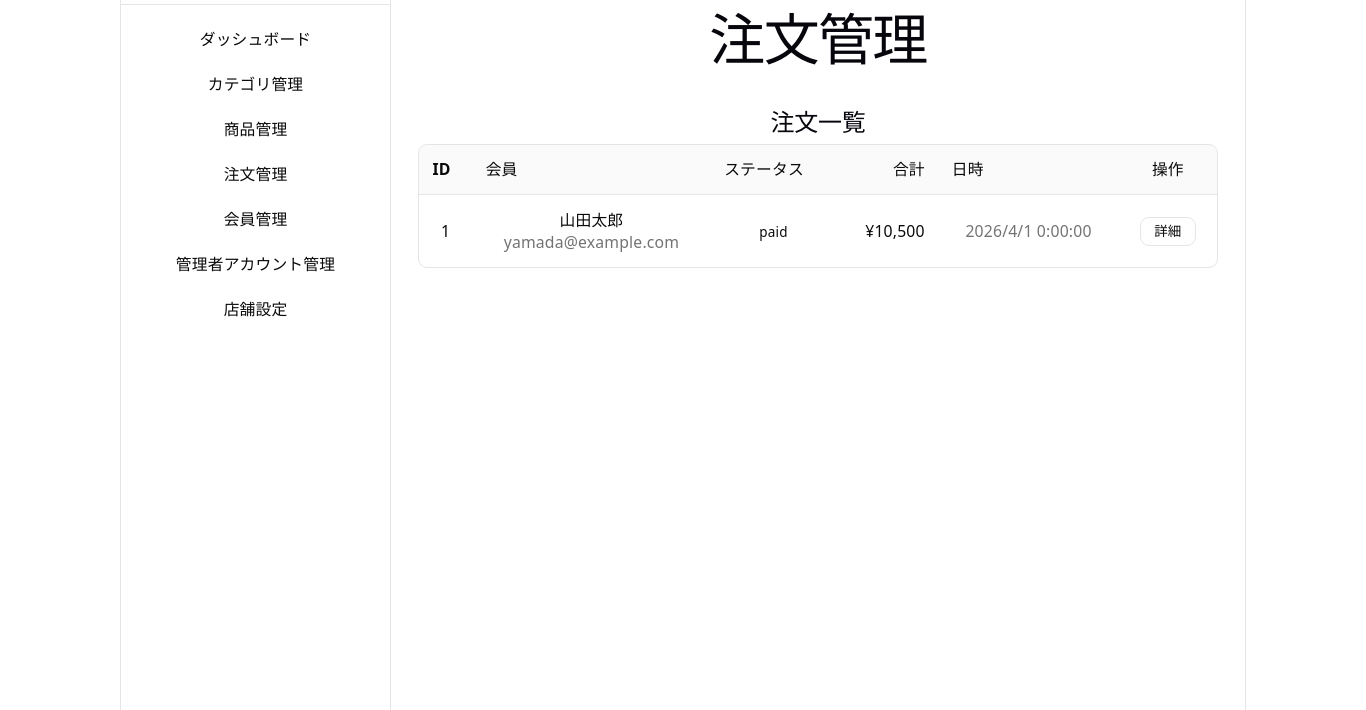
Test: AdminOrdersPage › pending状態の注文でもキャンセルボタンが表示されること
The width and height of the screenshot is (1366, 710).
Check: the text "yamada@example.com" is shown, box top-left (504, 232), bottom-right (679, 254)
Click the button "詳細" at x=1168, y=232, box top-left (1140, 217), bottom-right (1196, 246)
(page scrolled)
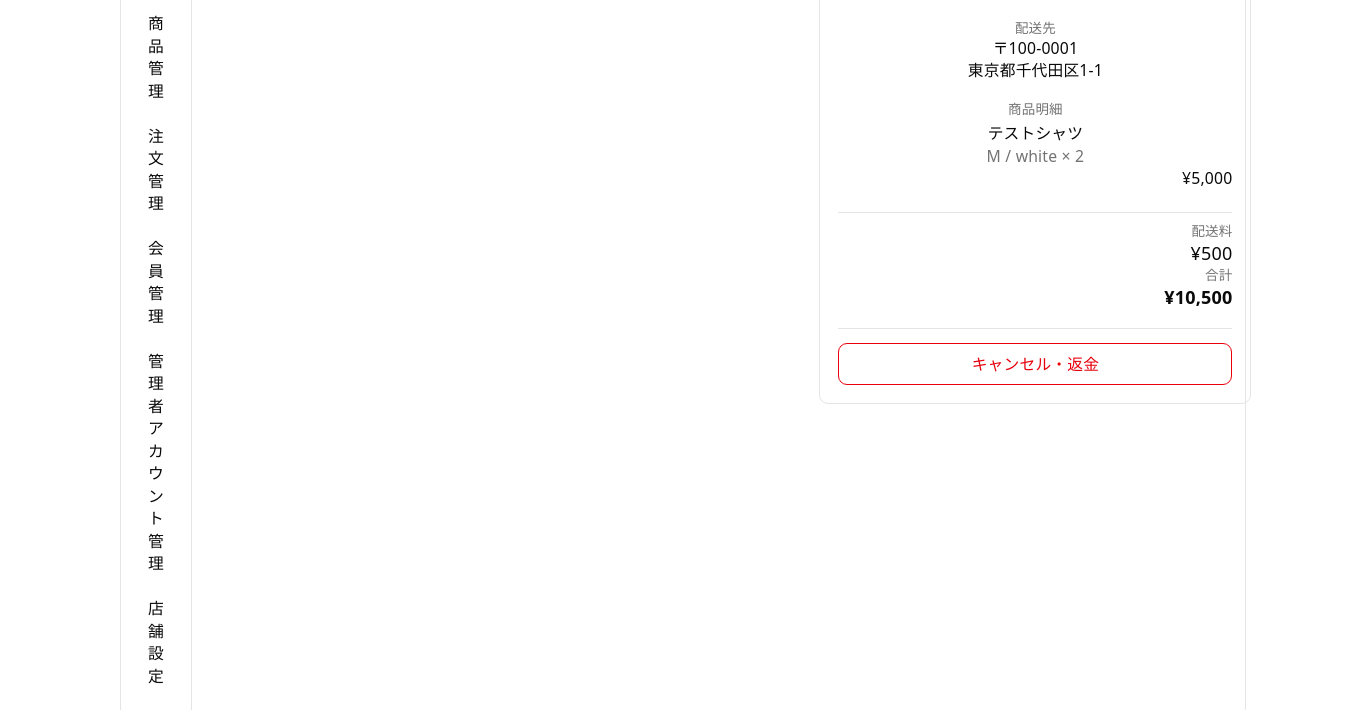
Check: the text "テストシャツ" is shown, box top-left (988, 122), bottom-right (1083, 144)
Check: the button "キャンセル・返金" is shown, box top-left (838, 343), bottom-right (1232, 385)
